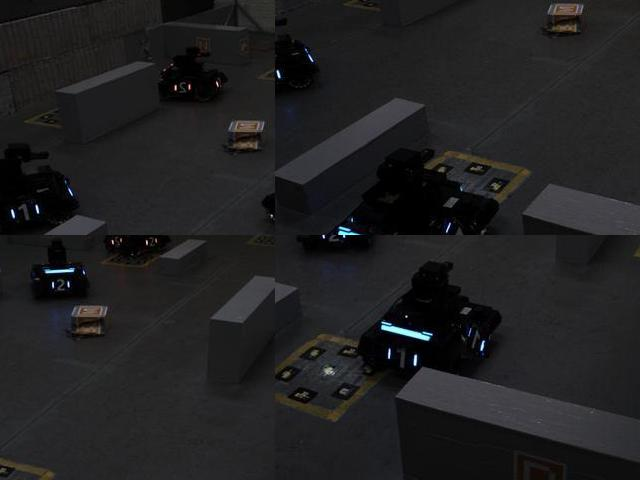armor: (383, 342, 421, 376), (3, 197, 42, 228), (462, 323, 491, 359), (441, 217, 477, 234), (170, 76, 197, 98), (46, 276, 75, 293), (317, 235, 349, 248), (107, 235, 129, 249), (141, 235, 160, 250)
